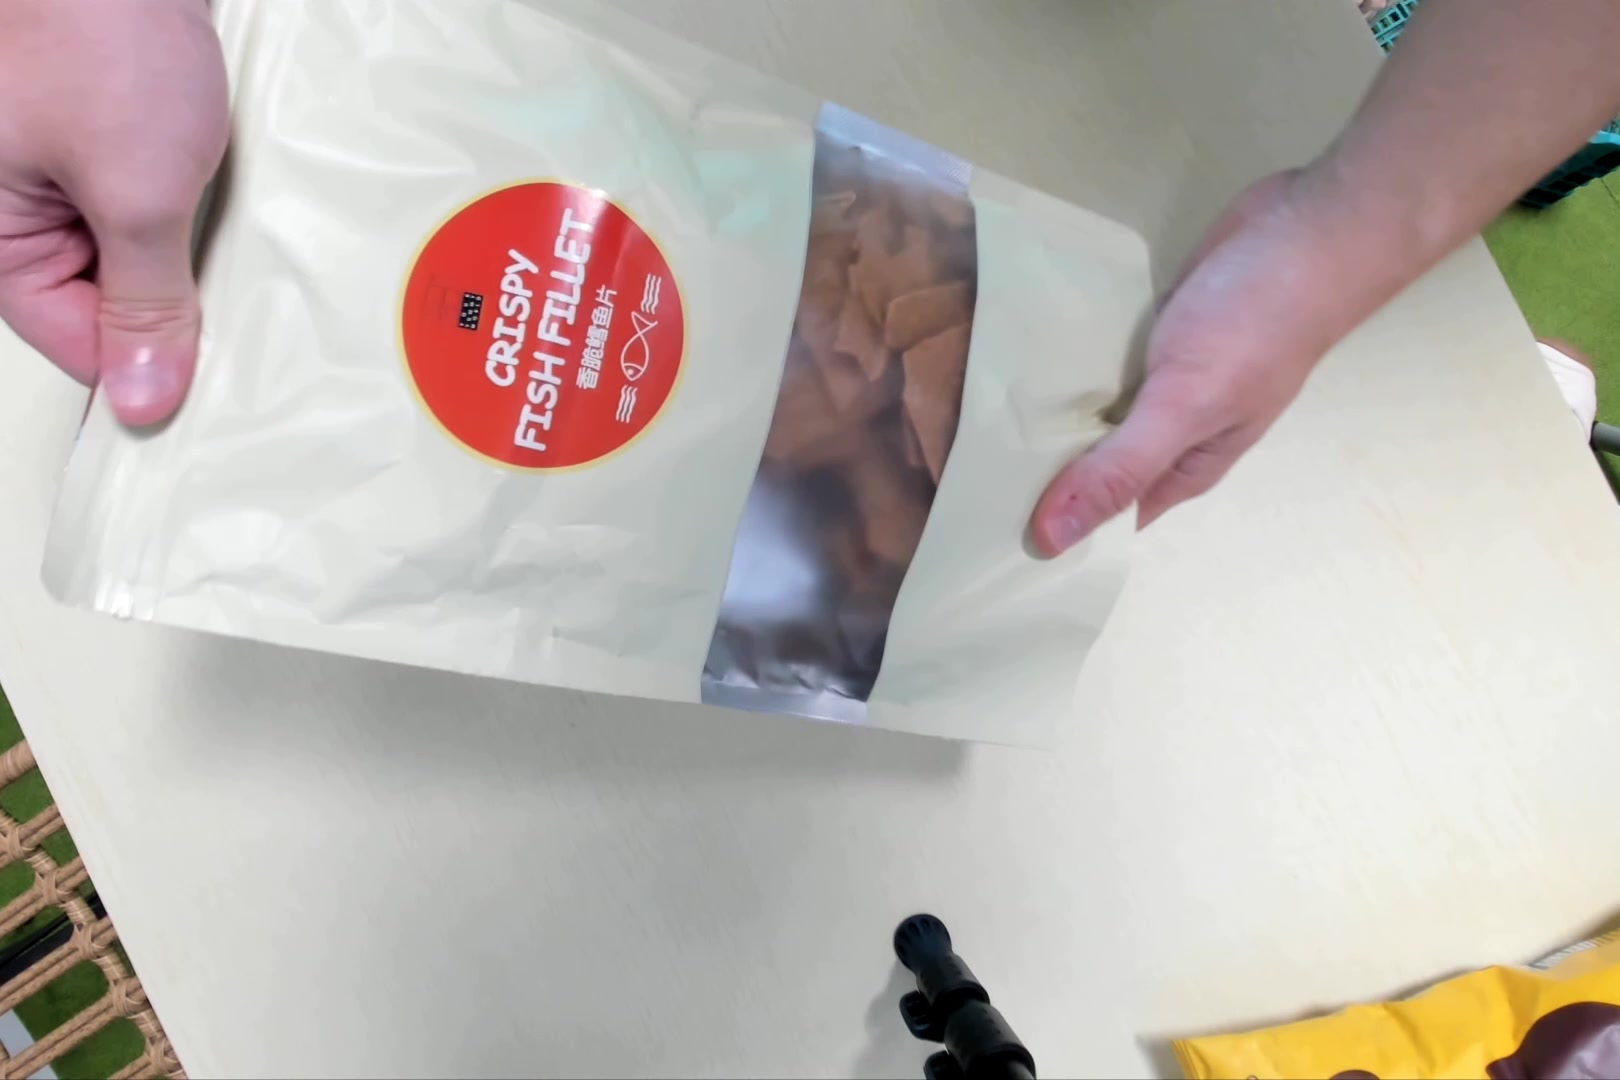PotatoChipsKeropok_100-199g_NonHalal_NonHealthy: (81, 6, 1155, 746)
